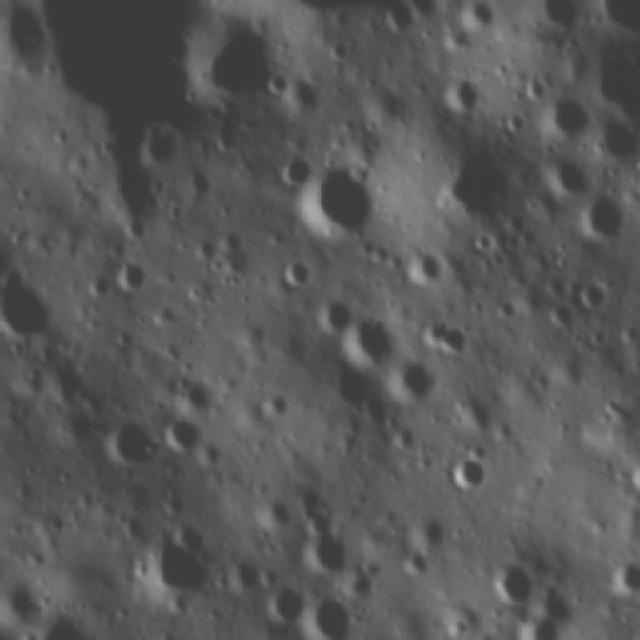crater: (288, 167, 379, 245), (422, 147, 509, 215), (144, 528, 213, 600), (0, 265, 57, 344), (336, 315, 398, 367), (101, 417, 159, 471), (384, 356, 441, 410), (486, 556, 540, 610), (306, 591, 359, 640), (300, 531, 352, 575), (539, 157, 592, 200), (582, 197, 626, 246), (445, 452, 490, 498), (543, 95, 592, 137), (256, 584, 306, 625), (586, 0, 640, 37), (274, 152, 318, 194), (312, 293, 356, 335), (162, 412, 203, 456), (573, 274, 615, 312), (446, 79, 486, 118), (111, 255, 151, 294), (455, 0, 498, 35), (536, 0, 582, 31), (277, 256, 314, 290), (609, 556, 640, 596), (259, 69, 292, 97), (324, 39, 353, 64), (492, 297, 519, 320), (626, 453, 640, 496)
